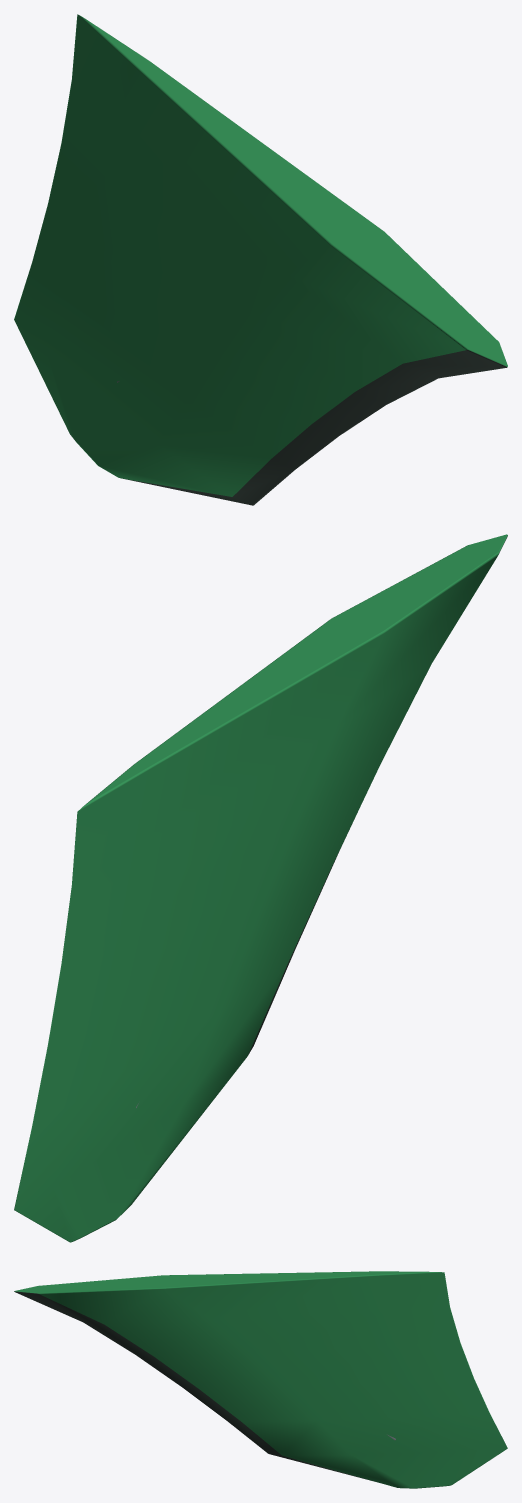
File: wraith_tail_compact.fbx
The picture shows the model from 3 angles, top to bottom: view 1: azimuth 30°, elevation 25°; view 2: azimuth 150°, elevation 25°; view 3: azimuth 270°, elevation 25°; orthographic projection. The views are drawn at different scales.
Parts seen in each view (by area): view 1: Tail_Compact; view 2: Tail_Compact; view 3: Tail_Compact.
Boxes of the visible parts, <box> form: Tail_Compact: <box>14,14,507,505</box>; Tail_Compact: <box>14,534,507,1242</box>; Tail_Compact: <box>14,1271,507,1488</box>.
Size of the model in its own units: 4.49 by 34.11 by 70.94.
